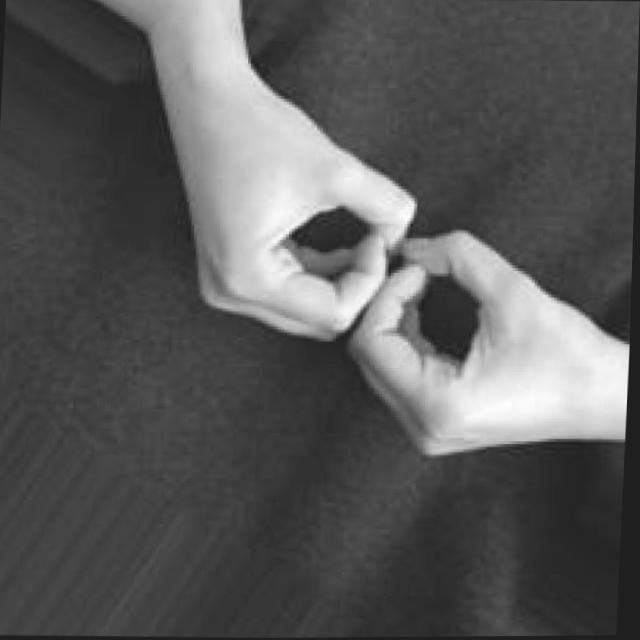B: (146, 65, 638, 474)
